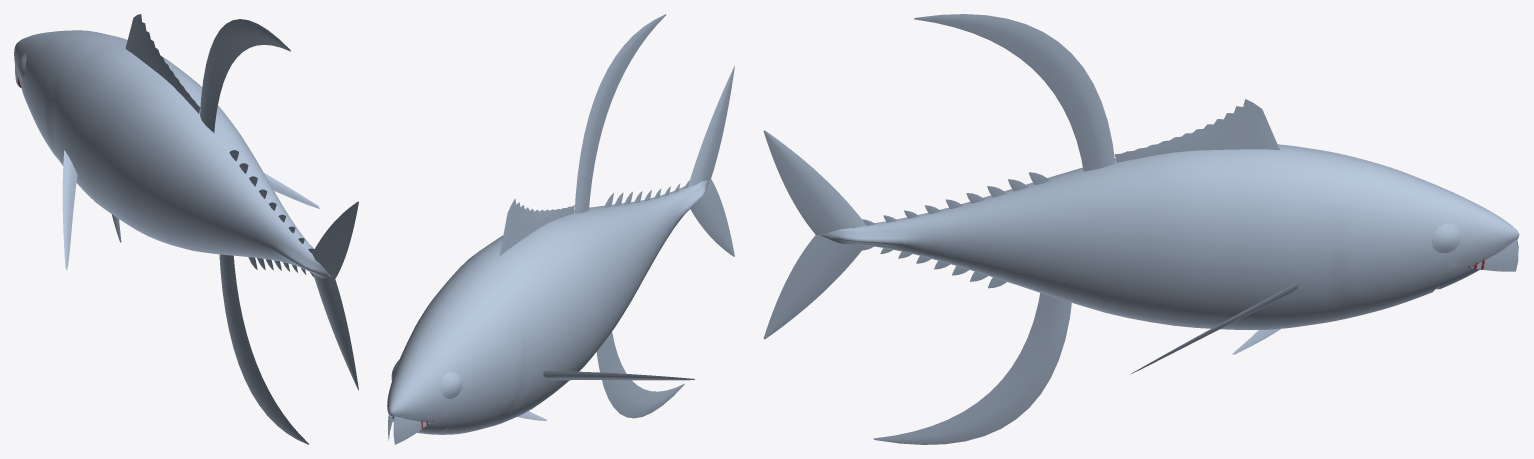
Rendered from yellowfin_tuna_lo.glb.
The picture shows the model from 3 angles, left to right: view 1: azimuth 30°, elevation 25°; view 2: azimuth 150°, elevation 25°; view 3: azimuth 270°, elevation 25°; orthographic projection. The views are drawn at different scales.
Visible parts, largest first — view 1: yellowfin_tuna_lo; view 2: yellowfin_tuna_lo; view 3: yellowfin_tuna_lo.
Boxes of the visible parts, left/top/right/bottom form: yellowfin_tuna_lo: left=14, top=14, right=358, bottom=444; yellowfin_tuna_lo: left=387, top=14, right=734, bottom=444; yellowfin_tuna_lo: left=763, top=14, right=1519, bottom=444.
Size of the model in its own units: 0.6409 by 0.9426 by 1.5.
